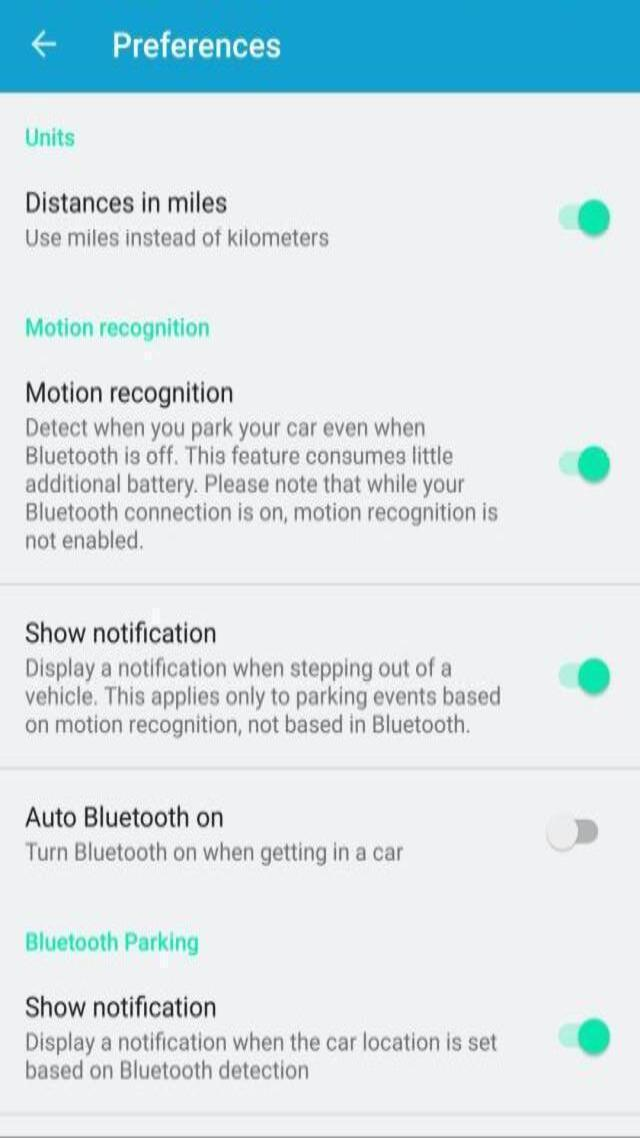CheckedTextView: (550, 1012, 614, 1059), (554, 655, 616, 703), (554, 193, 614, 242), (540, 812, 603, 857), (554, 448, 617, 491)
Icon: (22, 20, 62, 62)
Text: (19, 1026, 508, 1056), (18, 500, 500, 528), (20, 654, 469, 683), (16, 710, 476, 738), (25, 838, 412, 871), (17, 469, 470, 497), (21, 684, 508, 708), (18, 414, 434, 442), (20, 445, 459, 468), (23, 222, 334, 254), (19, 1057, 318, 1085), (105, 24, 288, 67), (18, 377, 238, 410), (20, 184, 233, 217), (19, 616, 220, 650), (21, 992, 220, 1023), (22, 803, 228, 831), (21, 529, 150, 555)
